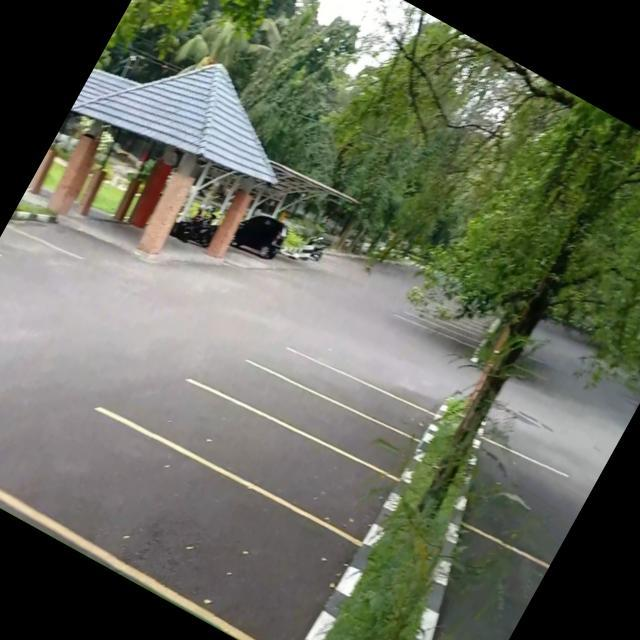empty: (37, 400, 360, 640), (175, 380, 396, 550), (233, 360, 415, 487), (279, 342, 432, 446)
